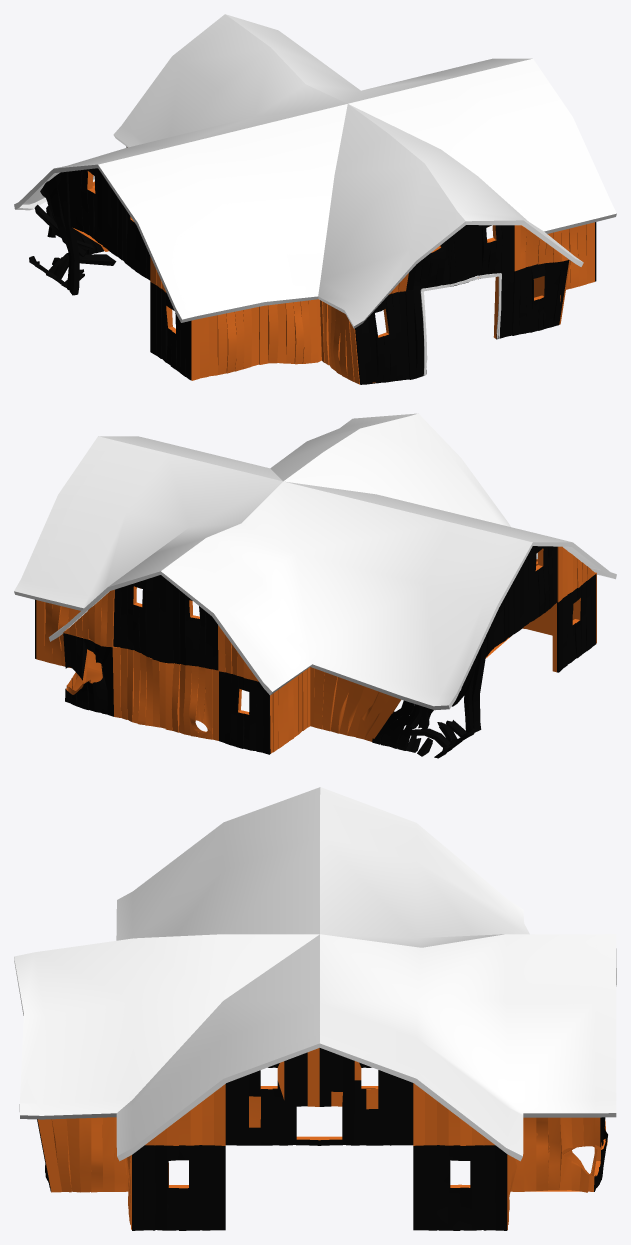
File: FermeDoubleDetruite.fbx
3 views of the same model, one above another, from view 1: azimuth 30°, elevation 25°; view 2: azimuth 150°, elevation 25°; view 3: azimuth 270°, elevation 25° (orthographic). The views are drawn at different scales.
Parts seen in each view (by area): view 1: MurRDCPorteFerme; view 2: MurRDCPorteFerme; view 3: MurRDCPorteFerme.
Part boxes in pixels (x1,y1,x2,y2): MurRDCPorteFerme: (14, 14, 616, 384); MurRDCPorteFerme: (14, 413, 616, 758); MurRDCPorteFerme: (14, 787, 616, 1230).
Size of the model in its own units: 3927 by 1534 by 3855.
